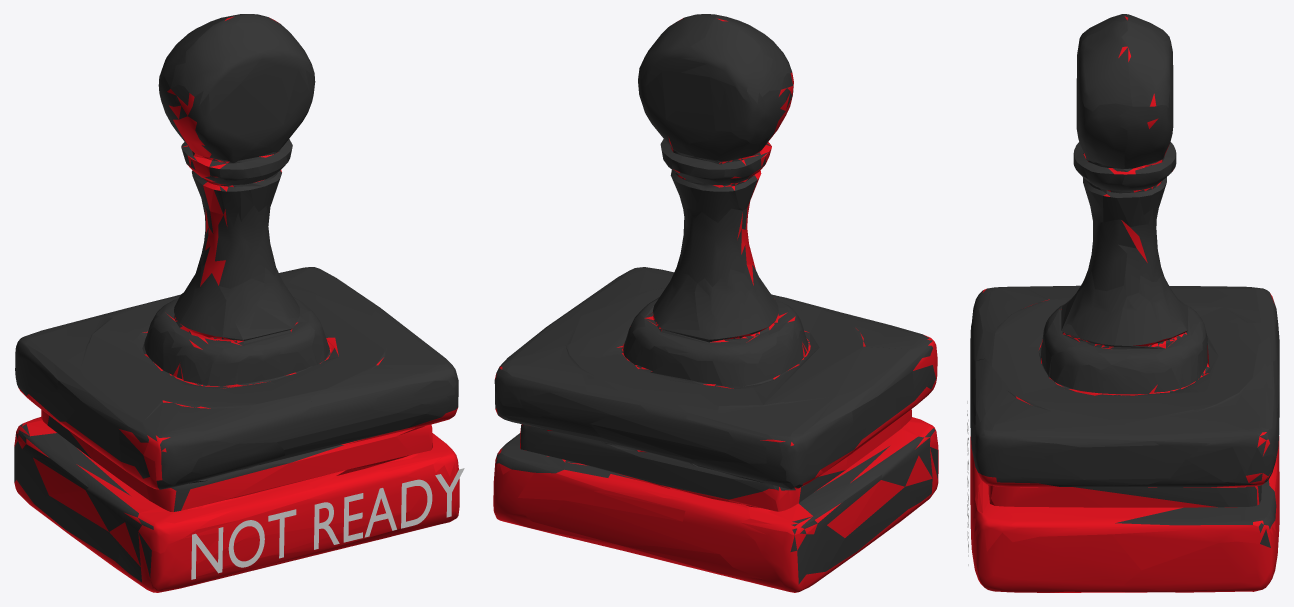
Rendered from Stamp_NOT_READY.fbx.
3 renders of one model, left to right at view 1: azimuth 30°, elevation 25°; view 2: azimuth 150°, elevation 25°; view 3: azimuth 270°, elevation 25°, orthographic.
Visible parts, largest first — view 1: Stamp_NotReady, Not_Ready_Text; view 2: Stamp_NotReady; view 3: Stamp_NotReady.
Part boxes in pixels (x1,y1,x2,y2): Stamp_NotReady: [14, 14, 459, 592]; Not_Ready_Text: [191, 468, 464, 579]; Stamp_NotReady: [493, 14, 938, 592]; Stamp_NotReady: [970, 14, 1279, 592].
Bounding box in the file's own units: 127 × 107 × 190.
